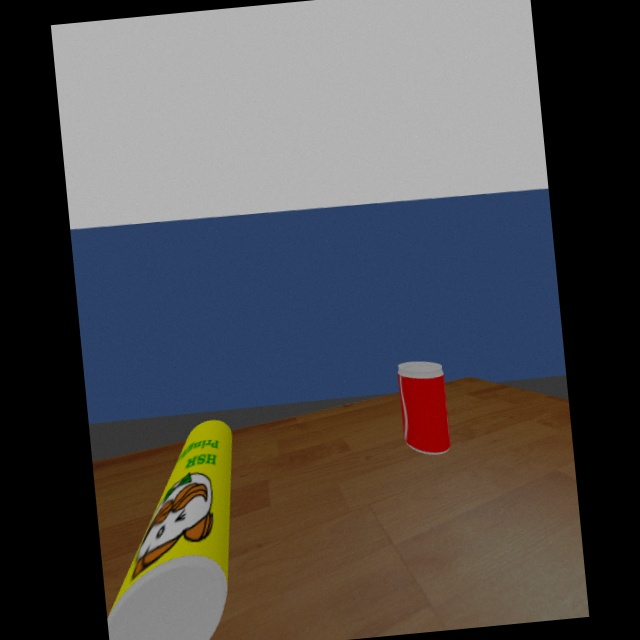chipsdose_gelb: (105, 419, 233, 640)
